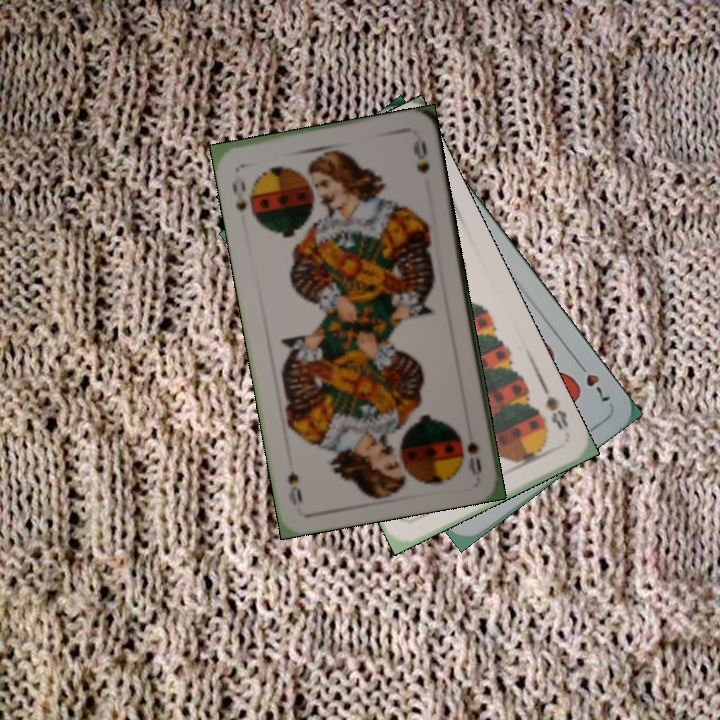H7: (572, 356, 613, 407)
S8: (540, 384, 571, 432)
SO: (463, 437, 484, 478), (228, 177, 250, 216)
